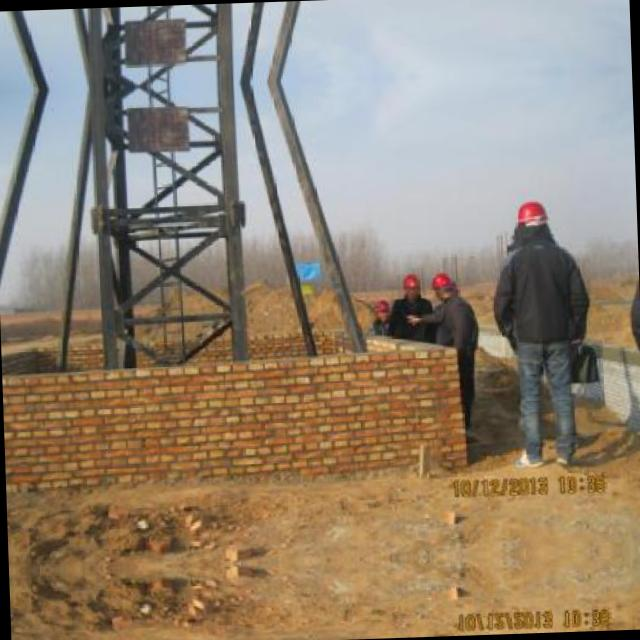helmet: (512, 194, 558, 248), (430, 268, 460, 298), (400, 270, 422, 300), (372, 294, 392, 324)
